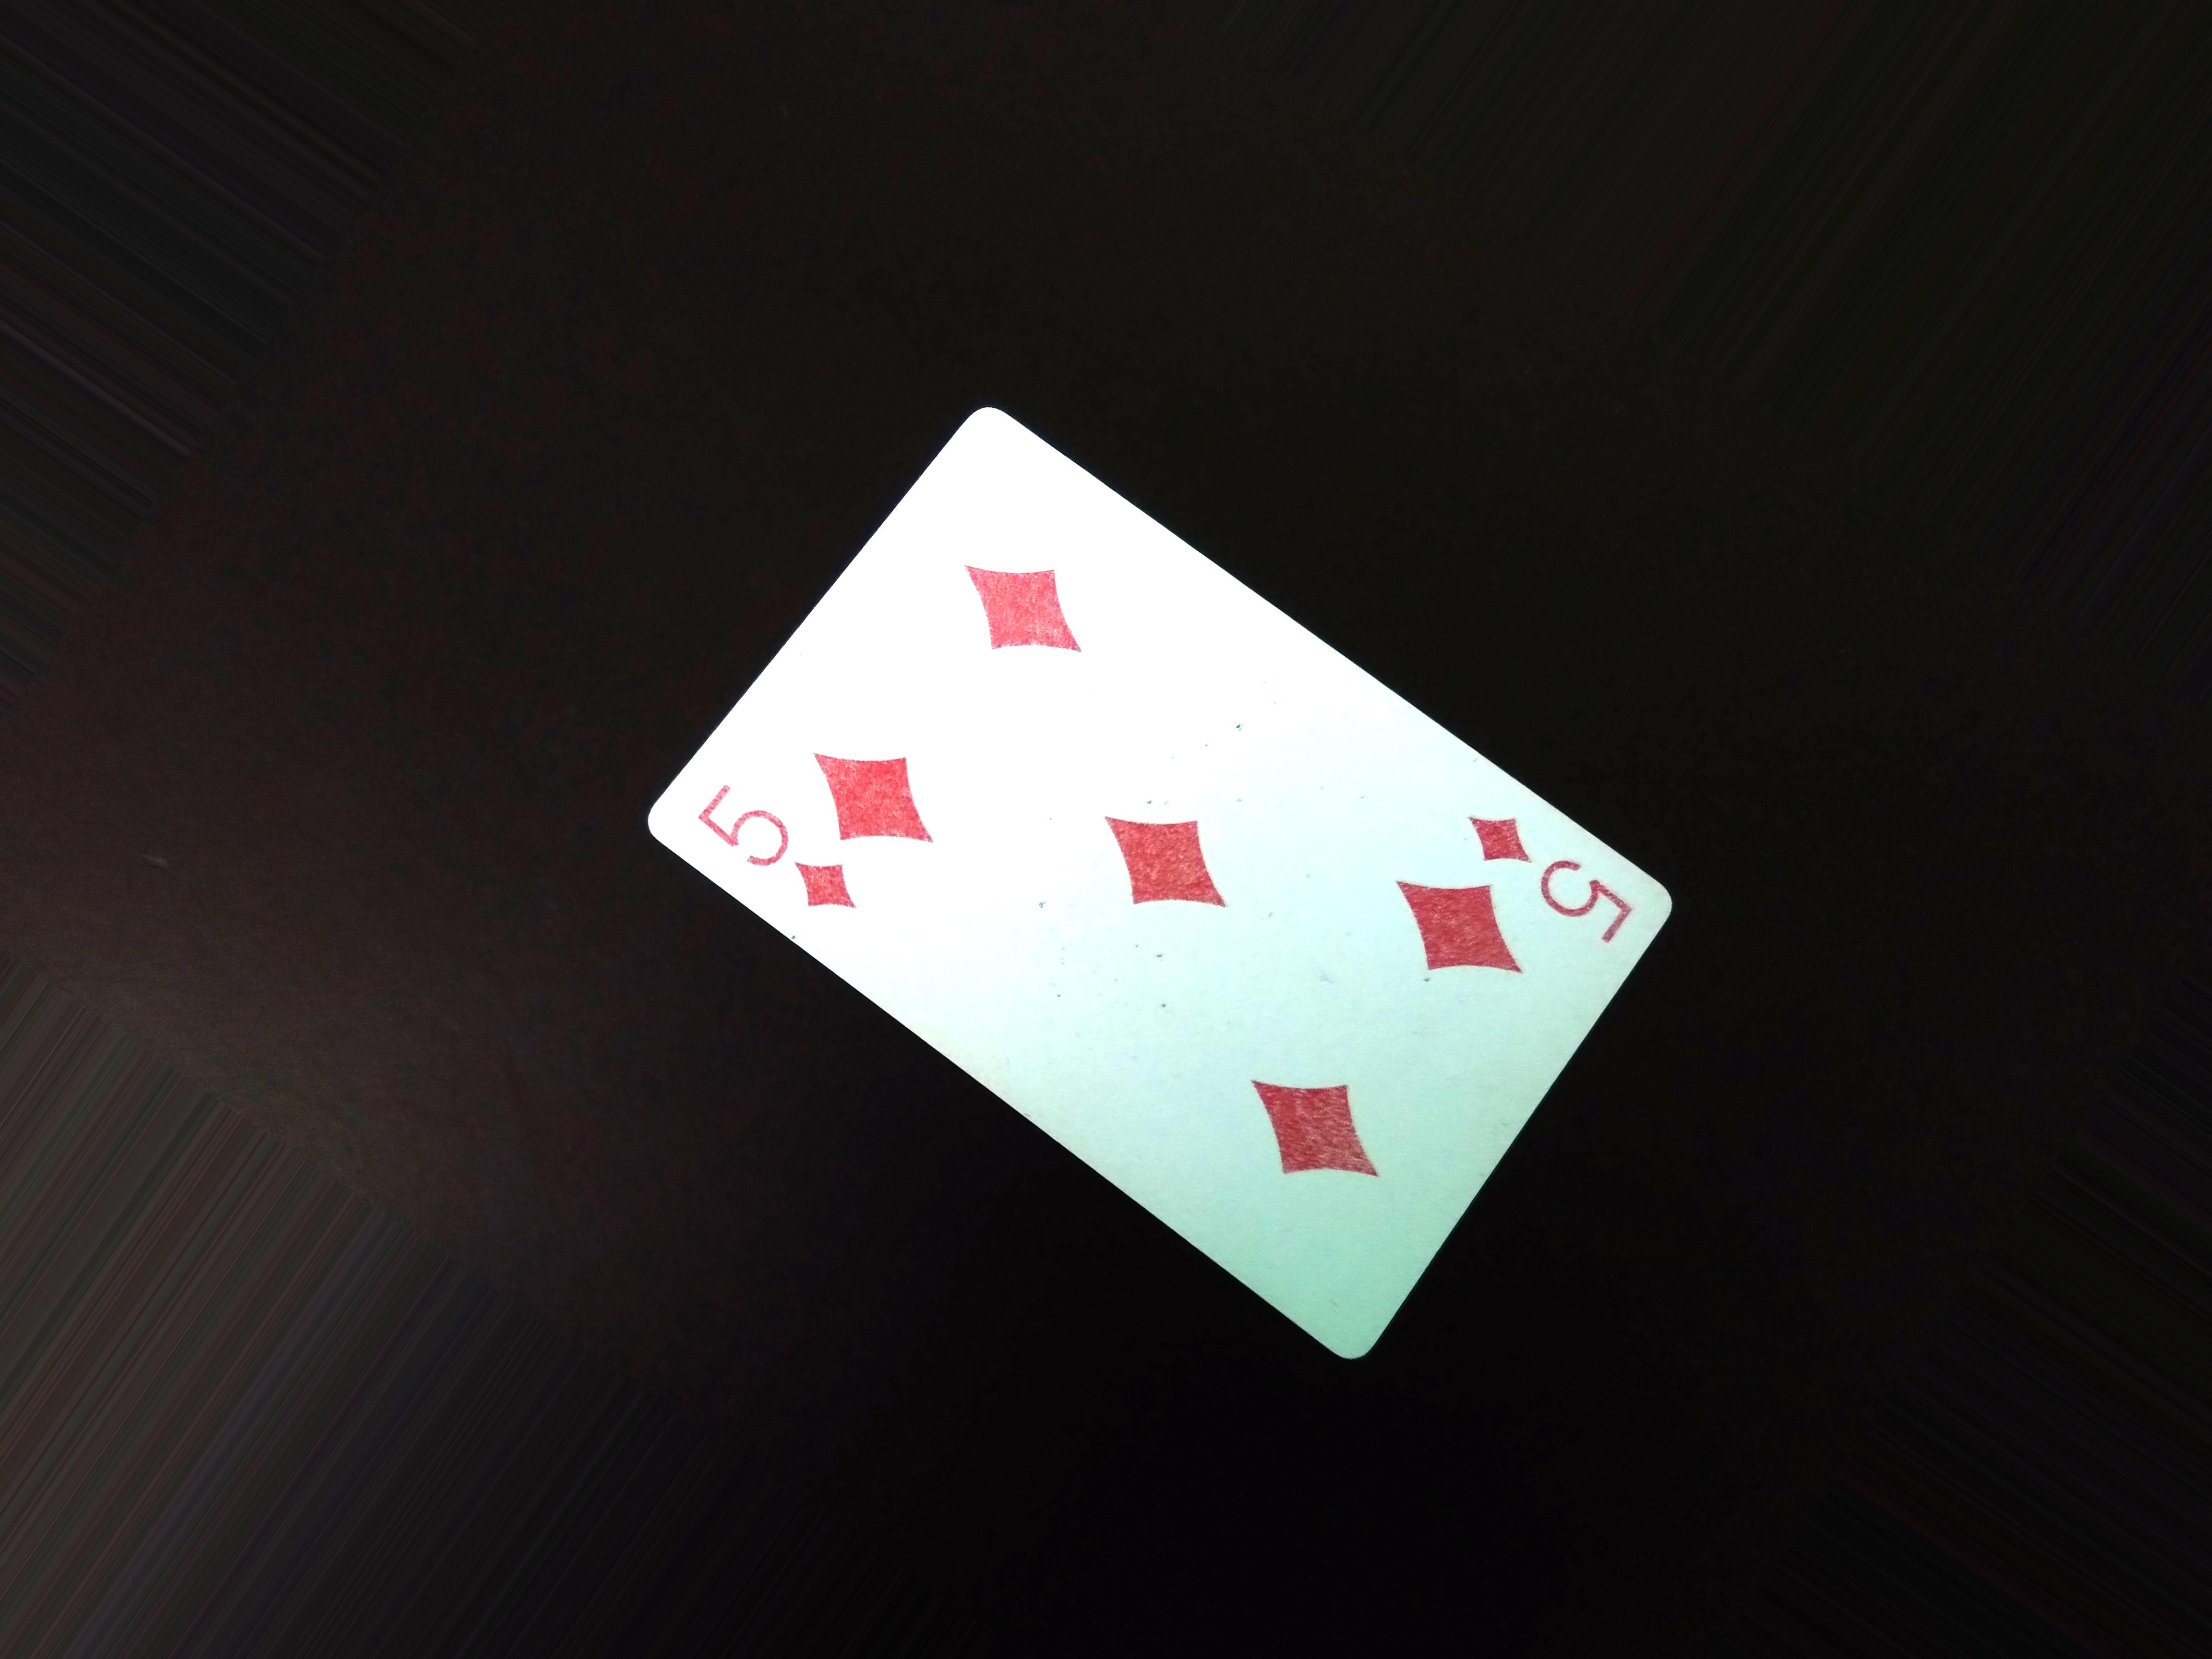5D: (681, 775, 864, 918)
